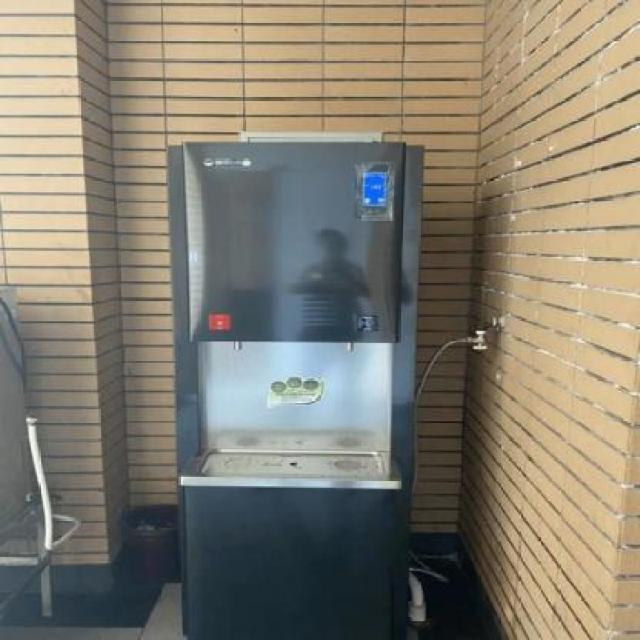cooler: (166, 126, 426, 639)
